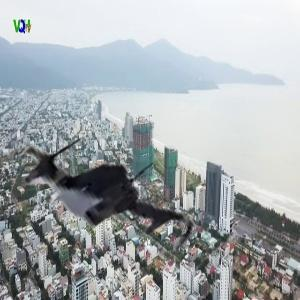drone: (4, 94, 201, 291)
